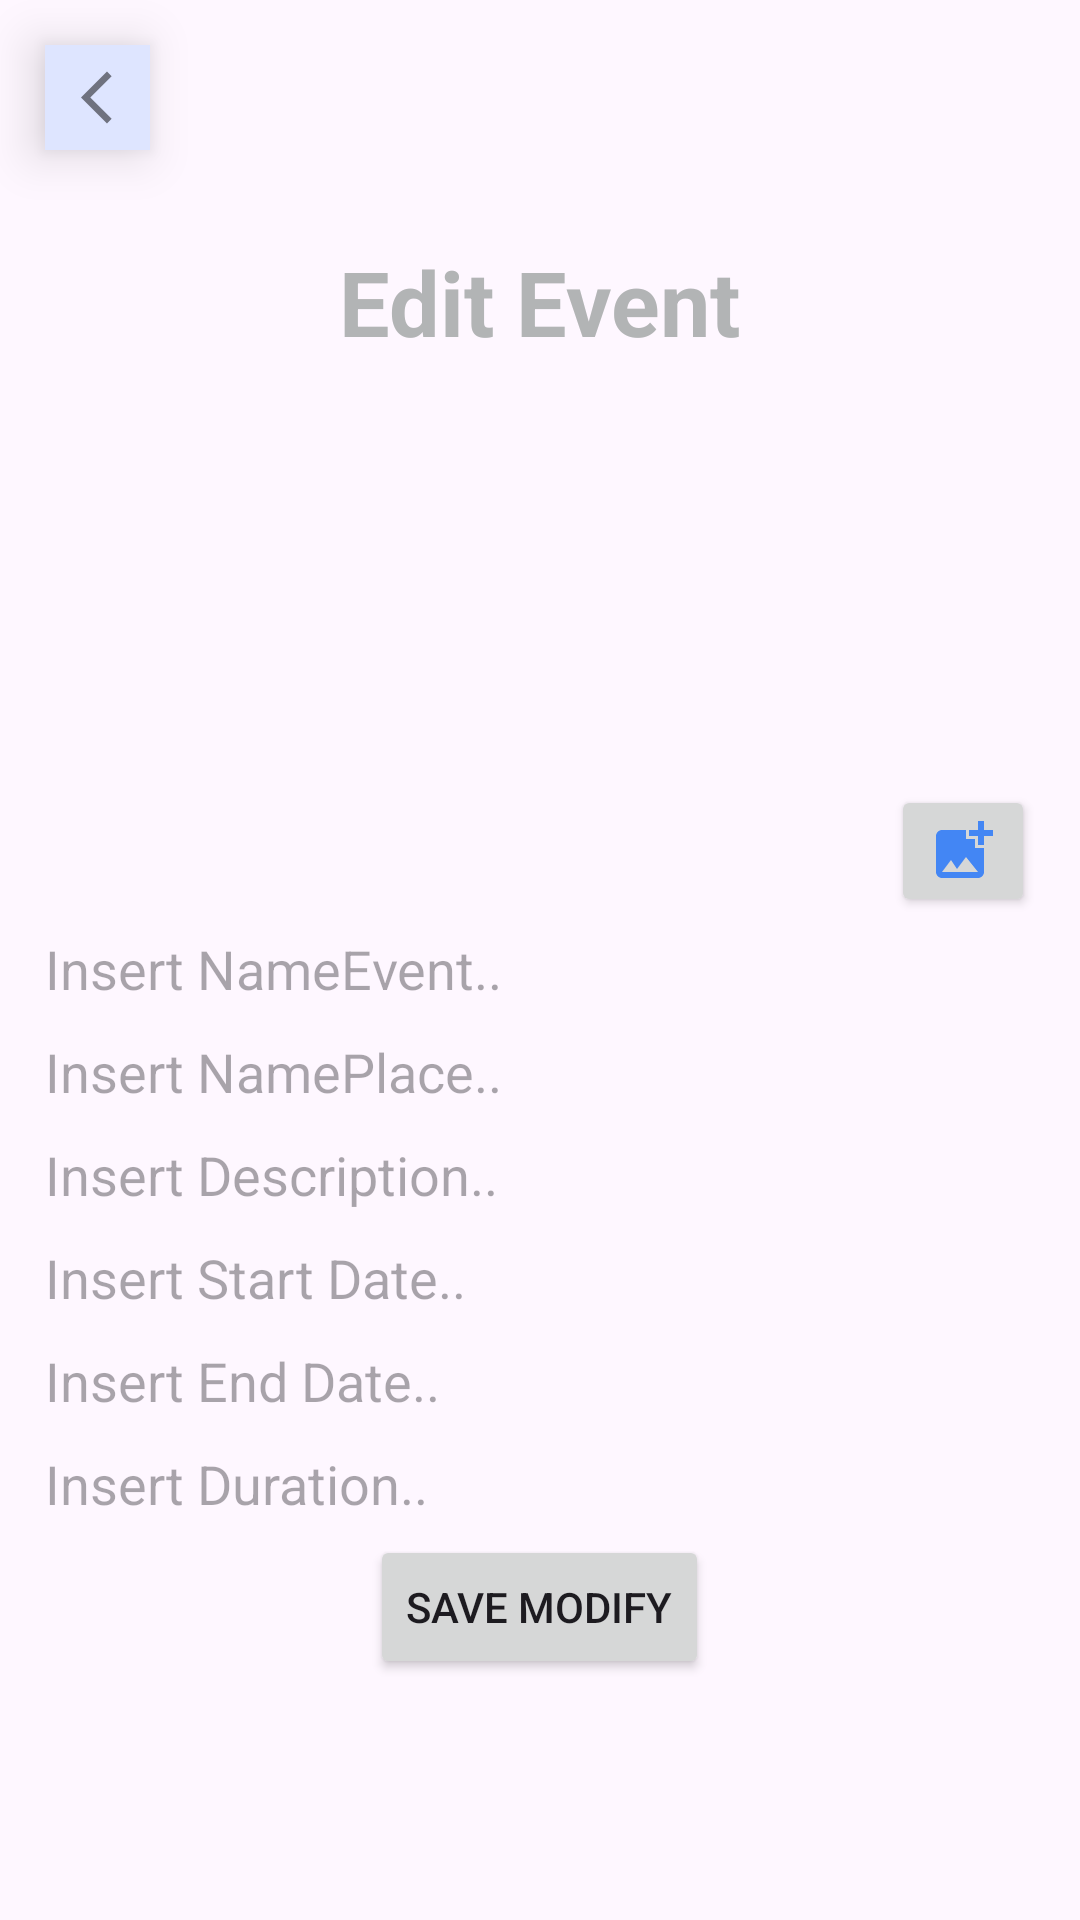

Icon click points for this 1080px×1920px phone screenshot, format [x,y]:
add photo alternate: [963,852]
back: [97,97]
